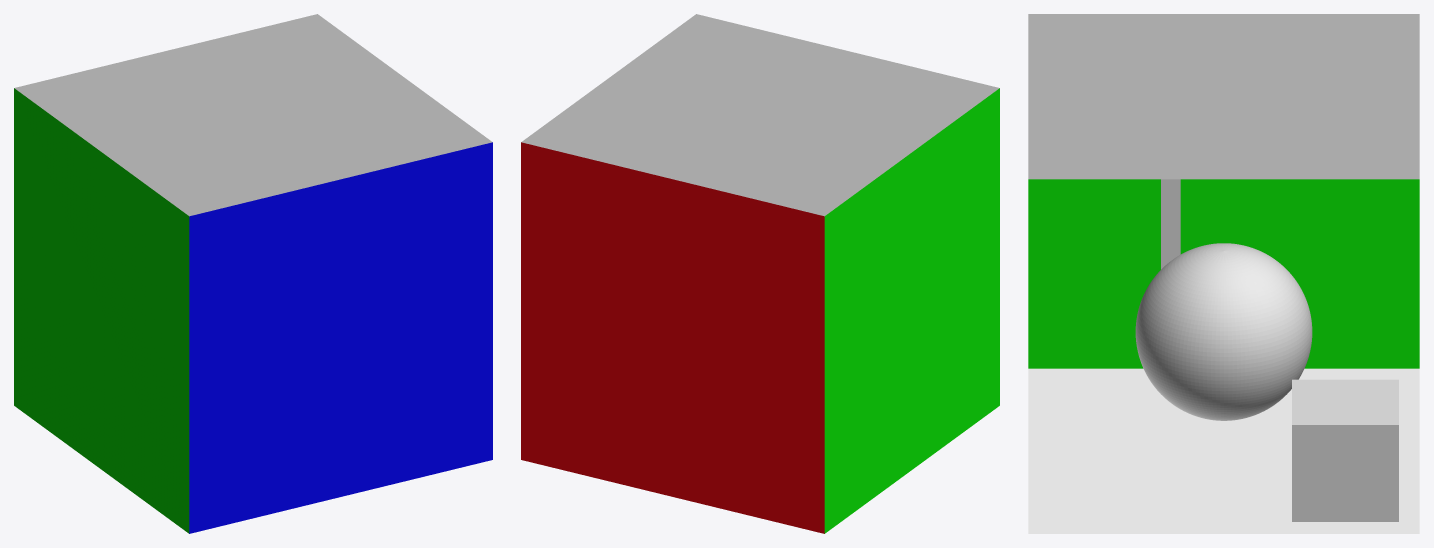
The picture shows the model from 3 angles, left to right: view 1: azimuth 30°, elevation 25°; view 2: azimuth 150°, elevation 25°; view 3: azimuth 270°, elevation 25°; orthographic projection. The views are drawn at different scales.
Parts seen in each view (by area): view 1: Plane.001, Plane.002, Plane.004; view 2: Plane.003, Plane.002, Plane.004; view 3: Plane.004, Plane.002, Plane, Sphere, Cube.002, Cube.
Part boxes in pixels (x1,y1,x2,y2): Plane.001: (189,142,492,533); Plane.002: (14,88,189,533); Plane.004: (14,14,492,216); Plane.003: (521,142,824,533); Plane.002: (824,88,999,533); Plane.004: (521,14,999,216); Plane.004: (1028,14,1419,179); Plane.002: (1028,179,1419,368); Plane: (1028,368,1419,533); Sphere: (1135,243,1312,420); Cube.002: (1292,379,1398,521); Cube: (1161,179,1180,269).
Size of the model in its own units: 40 by 40 by 40.
